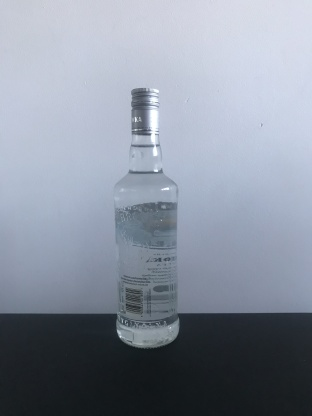nakretka: (129, 85, 161, 137)
